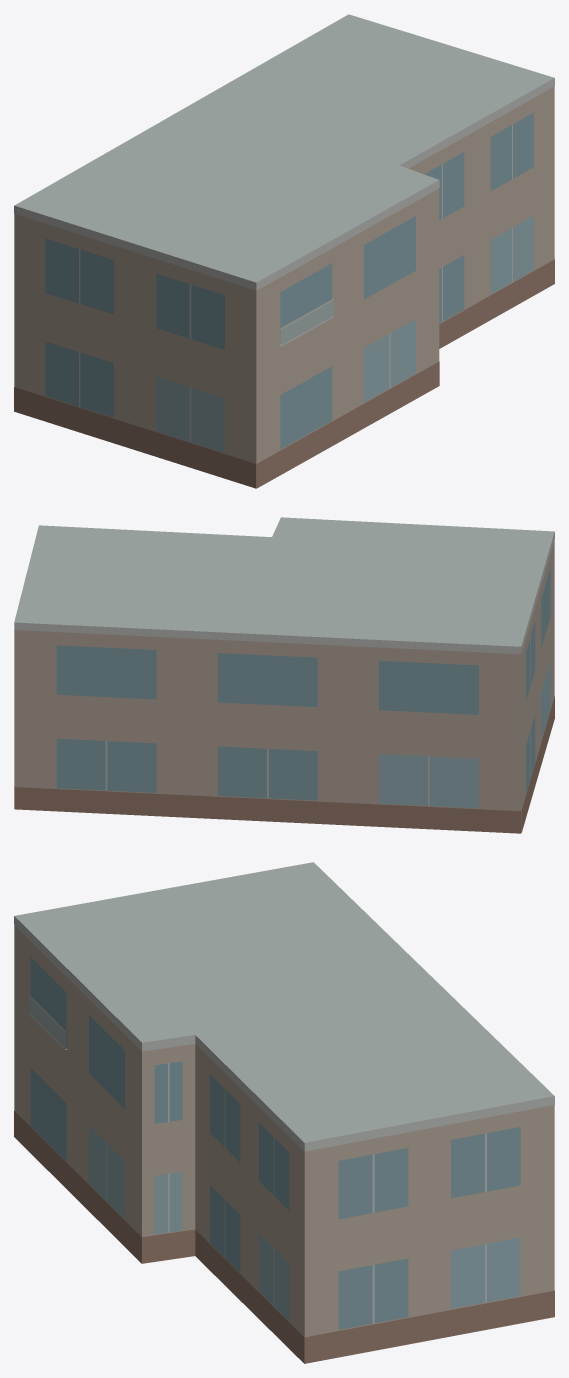
File: survey-upis-32746669.glb
The picture shows the model from 3 angles, top to bottom: view 1: azimuth 30°, elevation 25°; view 2: azimuth 150°, elevation 25°; view 3: azimuth 270°, elevation 25°; orthographic projection. The views are drawn at different scales.
Parts seen in each view (by area): view 1: survey-upis-32746669.tmp; view 2: survey-upis-32746669.tmp; view 3: survey-upis-32746669.tmp.
Boxes of the visible parts, box(x1,y1,x2,y2) form: survey-upis-32746669.tmp: box(14, 14, 554, 488); survey-upis-32746669.tmp: box(14, 517, 554, 833); survey-upis-32746669.tmp: box(14, 862, 554, 1363).
Bounding box in the file's own units: 16.63 × 6.1 × 13.54.
